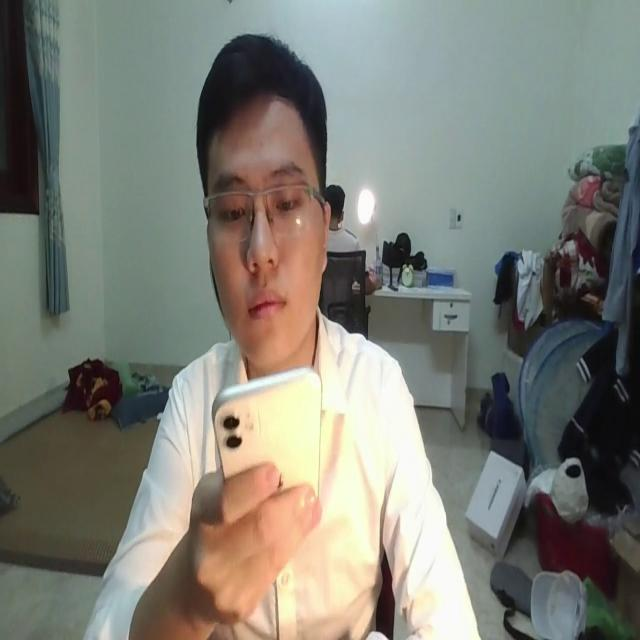phone: (212, 363, 320, 512)
student: (74, 30, 483, 640)
